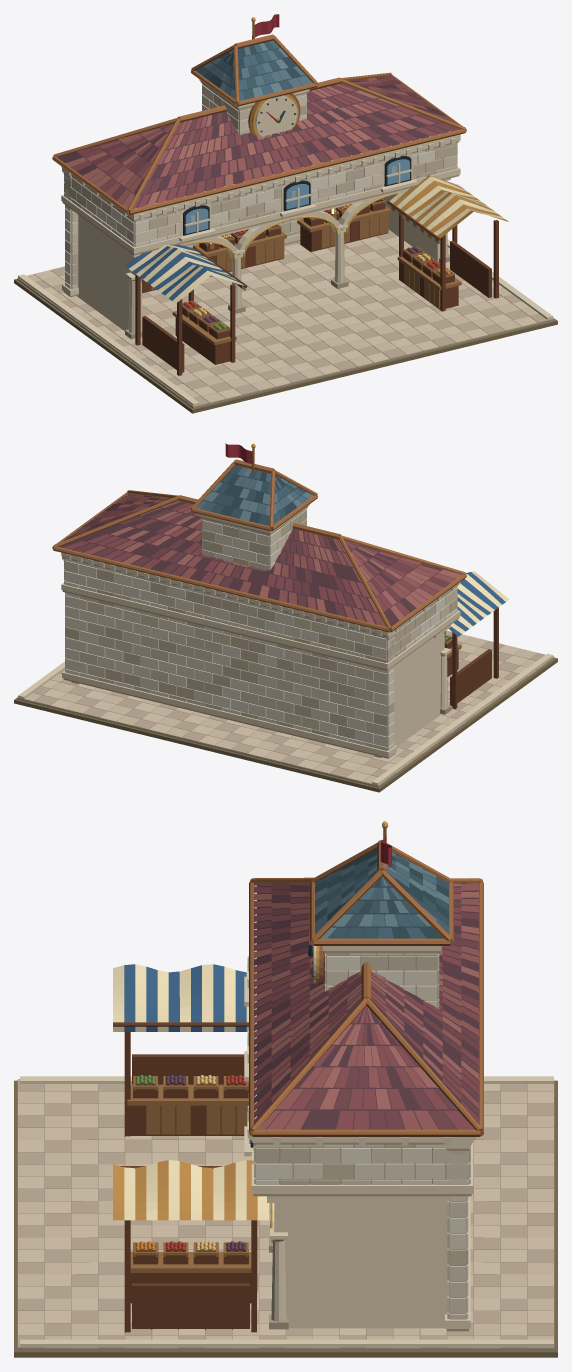
The model's file is market-nivel-6.glb.
3 views of the same model, one above another, from view 1: azimuth 30°, elevation 25°; view 2: azimuth 150°, elevation 25°; view 3: azimuth 270°, elevation 25° (orthographic). The views are drawn at different scales.
Visible parts, largest first — view 1: Mercado 06 #e6d7ba, Mercado 06 #d3c3a9, Mercado 06 #dac9af, Mercado 06 #c1af99, Mercado 06 #70432c, Mercado 06 #593b44, Mercado 06 #a76e42, Mercado 06 #eadbb2, Mercado 06 #9f7145, Mercado 06 #8f5655, Mercado 06 #824a50, Mercado 06 #70444a (+19 smaller); view 2: Mercado 06 #e6d7ba, Mercado 06 #ded1b9, Mercado 06 #e8dcc5, Mercado 06 #eae1ce, Mercado 06 #cec1a8, Mercado 06 #593b44, Mercado 06 #a76e42, Mercado 06 #c1af99, Mercado 06 #dac9af, Mercado 06 #d3c3a9, Mercado 06 #8f5655, Mercado 06 #824a50 (+14 smaller); view 3: Mercado 06 #e6d7ba, Mercado 06 #d3c3a9, Mercado 06 #c1af99, Mercado 06 #dac9af, Mercado 06 #70432c, Mercado 06 #593b44, Mercado 06 #a76e42, Mercado 06 #824a50, Mercado 06 #eadbb2, Mercado 06 #8f5655, Mercado 06 #70444a, Mercado 06 #7f704e (+16 smaller).
Part boxes in pixels (bbox=[...]): Mercado 06 #e6d7ba: bbox=[18, 79, 553, 405]; Mercado 06 #d3c3a9: bbox=[17, 229, 538, 402]; Mercado 06 #dac9af: bbox=[34, 229, 537, 398]; Mercado 06 #c1af99: bbox=[26, 230, 554, 406]; Mercado 06 #70432c: bbox=[135, 200, 498, 375]; Mercado 06 #593b44: bbox=[57, 78, 449, 207]; Mercado 06 #a76e42: bbox=[52, 22, 466, 249]; Mercado 06 #eadbb2: bbox=[129, 131, 505, 303]; Mercado 06 #9f7145: bbox=[151, 199, 461, 345]; Mercado 06 #8f5655: bbox=[96, 80, 456, 204]; Mercado 06 #824a50: bbox=[71, 75, 438, 209]; Mercado 06 #70444a: bbox=[91, 76, 459, 200]; Mercado 06 #e6d7ba: bbox=[18, 504, 553, 785]; Mercado 06 #ded1b9: bbox=[64, 516, 457, 750]; Mercado 06 #e8dcc5: bbox=[64, 508, 457, 750]; Mercado 06 #eae1ce: bbox=[64, 520, 457, 745]; Mercado 06 #cec1a8: bbox=[65, 510, 457, 738]; Mercado 06 #593b44: bbox=[59, 495, 455, 626]; Mercado 06 #a76e42: bbox=[52, 448, 466, 632]; Mercado 06 #c1af99: bbox=[33, 630, 553, 779]; Mercado 06 #dac9af: bbox=[42, 634, 536, 781]; Mercado 06 #d3c3a9: bbox=[17, 637, 545, 785]; Mercado 06 #8f5655: bbox=[69, 493, 455, 626]; Mercado 06 #824a50: bbox=[62, 496, 438, 616]; Mercado 06 #e6d7ba: bbox=[20, 946, 553, 1347]; Mercado 06 #d3c3a9: bbox=[18, 1084, 553, 1348]; Mercado 06 #c1af99: bbox=[18, 1079, 553, 1348]; Mercado 06 #dac9af: bbox=[18, 1084, 553, 1348]; Mercado 06 #70432c: bbox=[113, 1022, 257, 1332]; Mercado 06 #593b44: bbox=[254, 885, 479, 1129]; Mercado 06 #a76e42: bbox=[249, 828, 483, 1136]; Mercado 06 #824a50: bbox=[254, 883, 479, 1129]; Mercado 06 #eadbb2: bbox=[113, 885, 470, 1243]; Mercado 06 #8f5655: bbox=[254, 883, 479, 1129]; Mercado 06 #70444a: bbox=[254, 883, 479, 1129]; Mercado 06 #7f704e: bbox=[14, 1080, 557, 1357].
Size of the model in its own units: 12.79 by 8.79 by 10.82.
